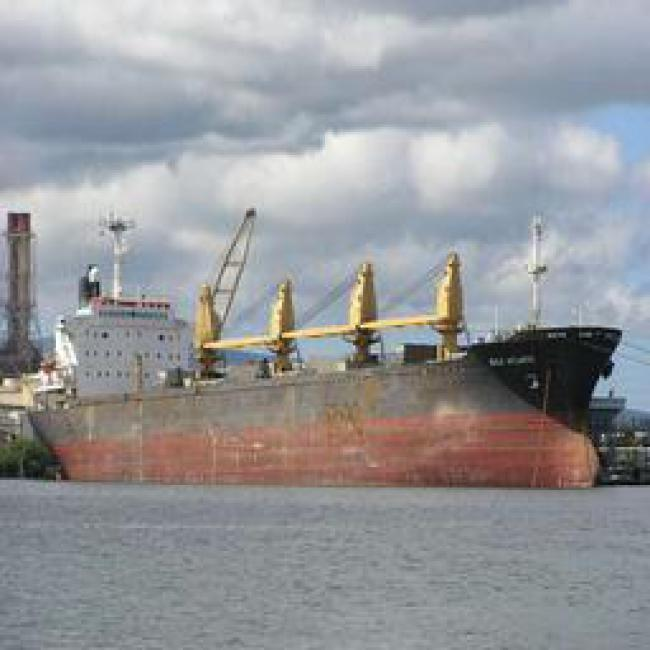Ship: (21, 321, 630, 500)
